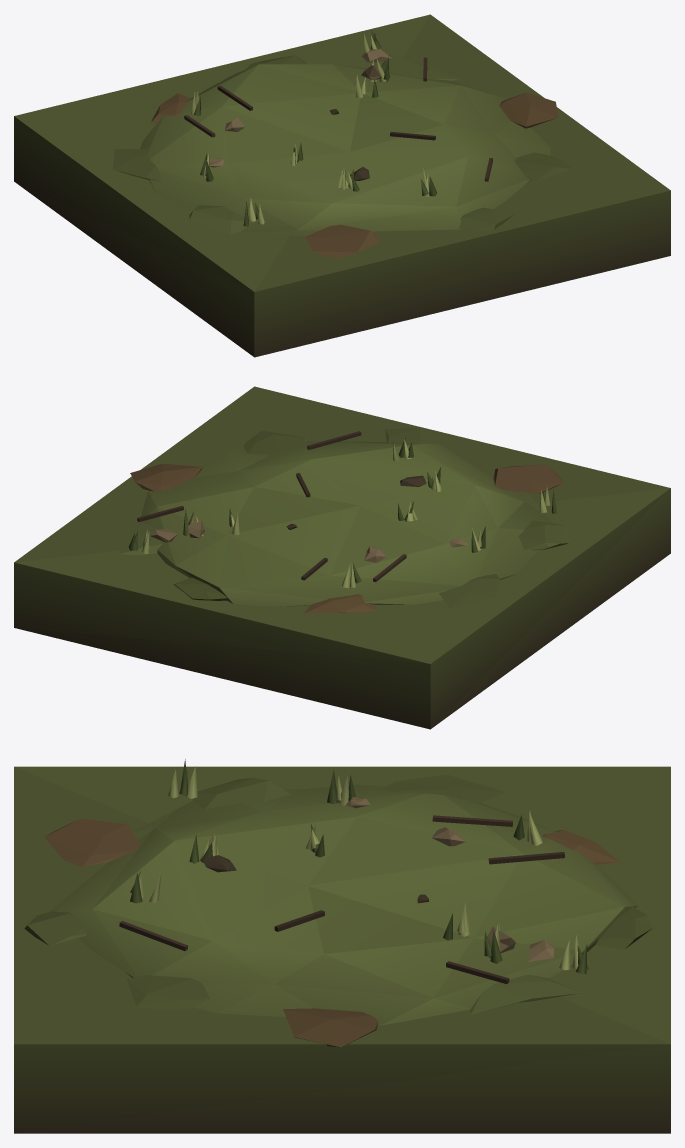
File: dry-hummock-tile.glb
3 renders of one model, top to bottom at view 1: azimuth 30°, elevation 25°; view 2: azimuth 150°, elevation 25°; view 3: azimuth 270°, elevation 25°, orthographic. The views are drawn at different scales.
Visible parts, largest first — view 1: dry_hummock_tile; view 2: dry_hummock_tile; view 3: dry_hummock_tile.
Part boxes in pixels (box(x1,y1,x2,y2)): dry_hummock_tile: box(14, 14, 670, 357); dry_hummock_tile: box(14, 386, 670, 729); dry_hummock_tile: box(14, 759, 670, 1133).
Bounding box in the file's own units: 4.04 × 0.8996 × 4.
